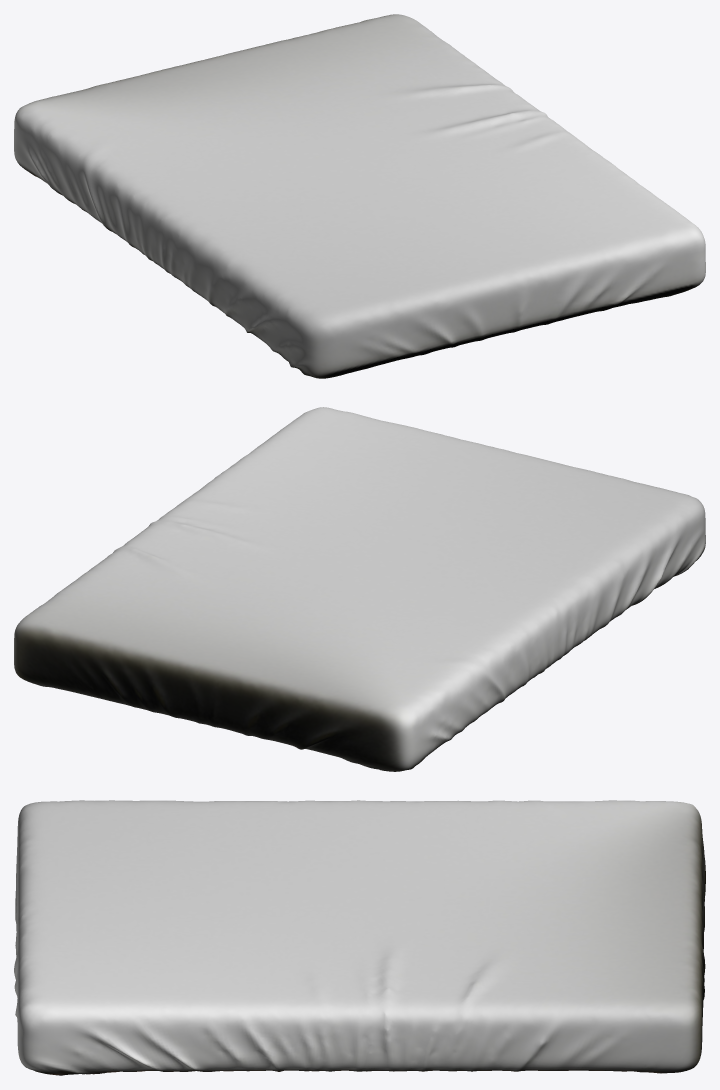
The model's file is edwin_king_size_bed_fabric_junipergreem_bedcloth_0_lev1.glb.
3 renders of one model, top to bottom at view 1: azimuth 30°, elevation 25°; view 2: azimuth 150°, elevation 25°; view 3: azimuth 270°, elevation 25°, orthographic. The views are drawn at different scales.
Visible parts, largest first — view 1: edwin_king_size_bed_fabric_junipergreem_bedcloth_0_lev1; view 2: edwin_king_size_bed_fabric_junipergreem_bedcloth_0_lev1; view 3: edwin_king_size_bed_fabric_junipergreem_bedcloth_0_lev1.
Part boxes in pixels (x1=…): edwin_king_size_bed_fabric_junipergreem_bedcloth_0_lev1: x1=14, y1=14, x2=705, y2=378; edwin_king_size_bed_fabric_junipergreem_bedcloth_0_lev1: x1=14, y1=407, x2=705, y2=771; edwin_king_size_bed_fabric_junipergreem_bedcloth_0_lev1: x1=14, y1=800, x2=705, y2=1075.
Bounding box in the file's own units: 9.04 × 1.42 × 11.92.
1 material, 1 textured.
